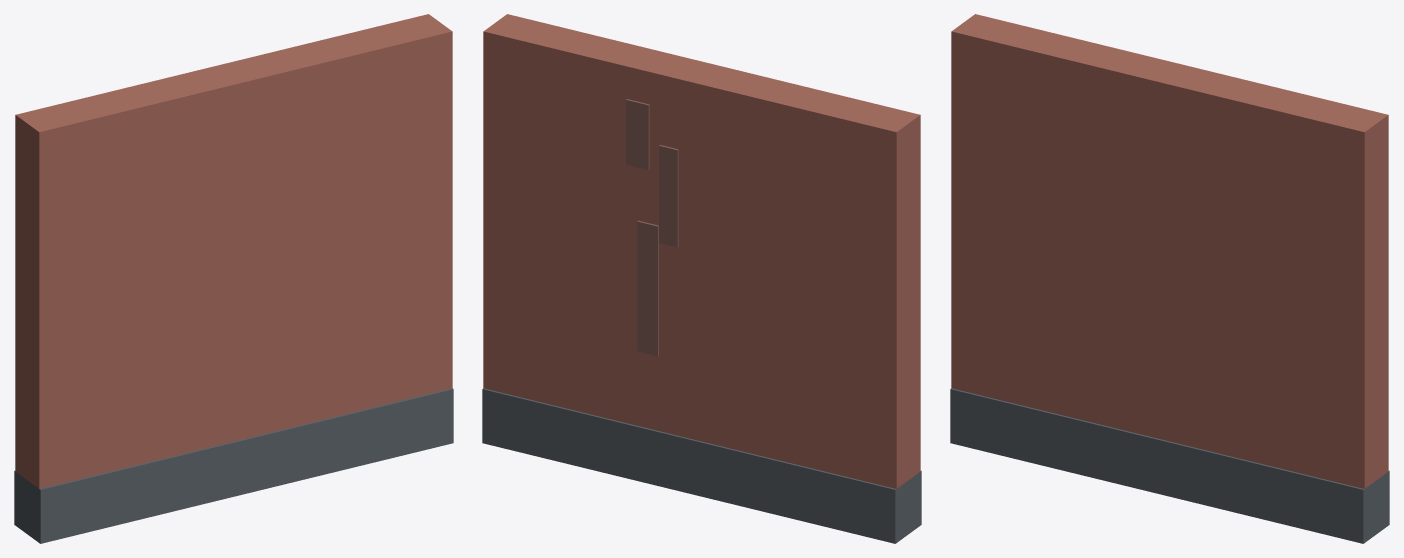
Rendered from arkham_wall_brickdamaged.glb.
3 views of the same model, side by side, from view 1: azimuth 30°, elevation 25°; view 2: azimuth 150°, elevation 25°; view 3: azimuth 330°, elevation 25° (orthographic).
Parts seen in each view (by area): view 1: Arkham_Wall_BrickDamaged; view 2: Arkham_Wall_BrickDamaged; view 3: Arkham_Wall_BrickDamaged.
Boxes of the visible parts, x1,y1,x2,y2 form: Arkham_Wall_BrickDamaged: (14,14,453,543); Arkham_Wall_BrickDamaged: (482,14,921,543); Arkham_Wall_BrickDamaged: (950,14,1389,543).
Bounding box in the file's own units: 4 × 3.8 × 0.44.
